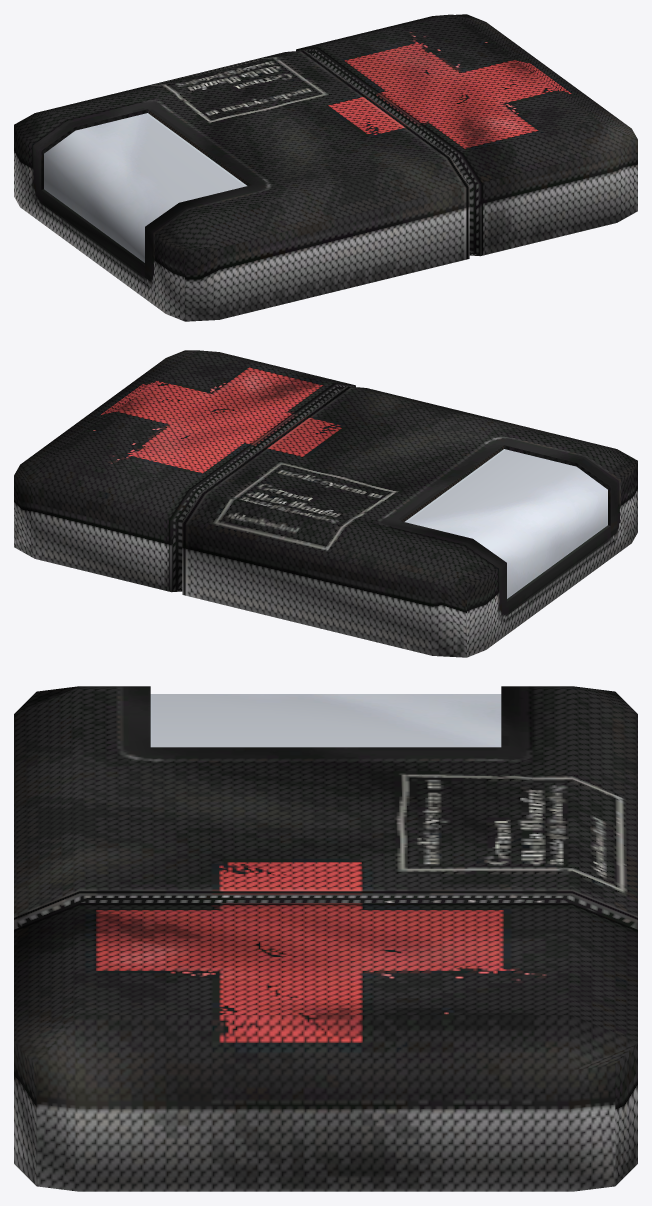
The model's file is medikit_m.glb.
The picture shows the model from 3 angles, top to bottom: view 1: azimuth 30°, elevation 25°; view 2: azimuth 150°, elevation 25°; view 3: azimuth 270°, elevation 25°; orthographic projection. The views are drawn at different scales.
Visible parts, largest first — view 1: Box01; view 2: Box01; view 3: Box01.
Boxes of the visible parts, x1,y1,x2,y2 form: Box01: [14, 14, 637, 321]; Box01: [14, 350, 637, 657]; Box01: [14, 686, 637, 1191].
Bounding box in the file's own units: 33.29 × 6.86 × 22.84.
Materials: 1 (1 with a texture image).
